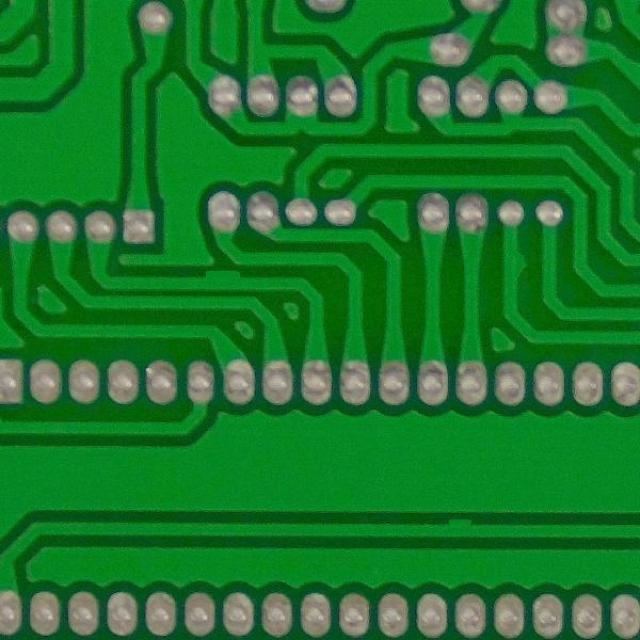Spur: (494, 242, 536, 288), (196, 266, 252, 296), (438, 515, 484, 545)
